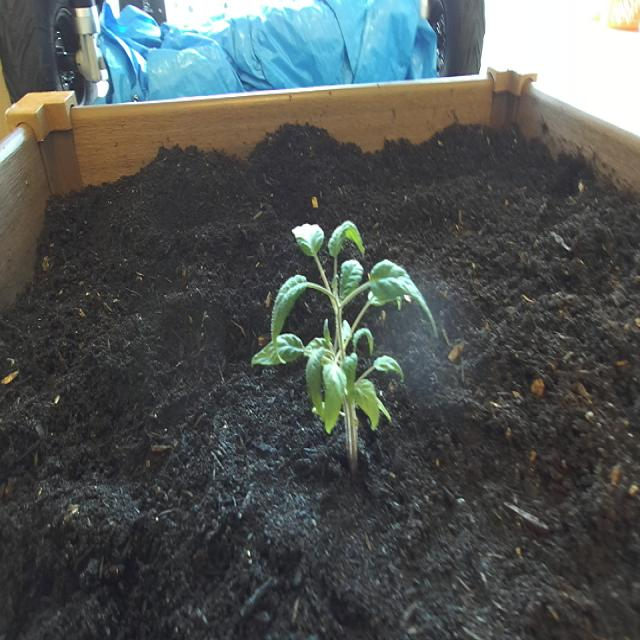Healthy: (244, 196, 445, 485)
